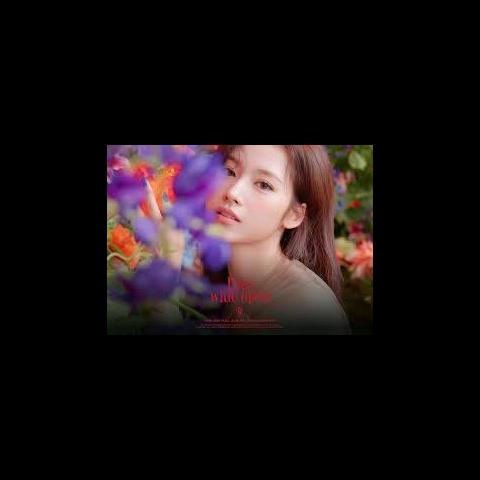opened: (217, 152, 281, 199)
